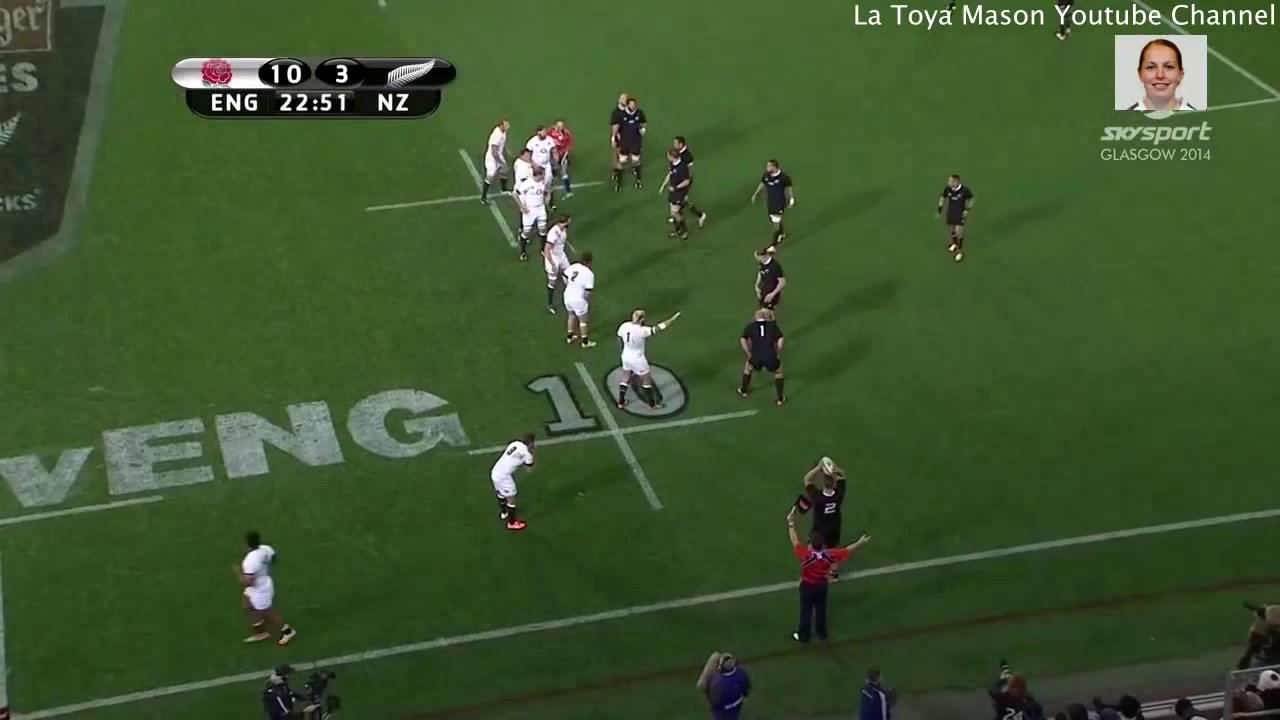10_metre: (461, 358, 770, 516), (353, 141, 613, 255)
player: (781, 483, 875, 659), (225, 527, 304, 656), (606, 298, 685, 424), (724, 304, 797, 416), (794, 445, 858, 553), (484, 426, 546, 536), (651, 127, 711, 233), (505, 161, 564, 265), (744, 153, 804, 252), (655, 138, 703, 253), (472, 107, 523, 214), (928, 168, 980, 272), (553, 248, 603, 356), (605, 94, 651, 202), (543, 203, 578, 318), (543, 110, 579, 205), (522, 118, 558, 207), (597, 82, 635, 145)
